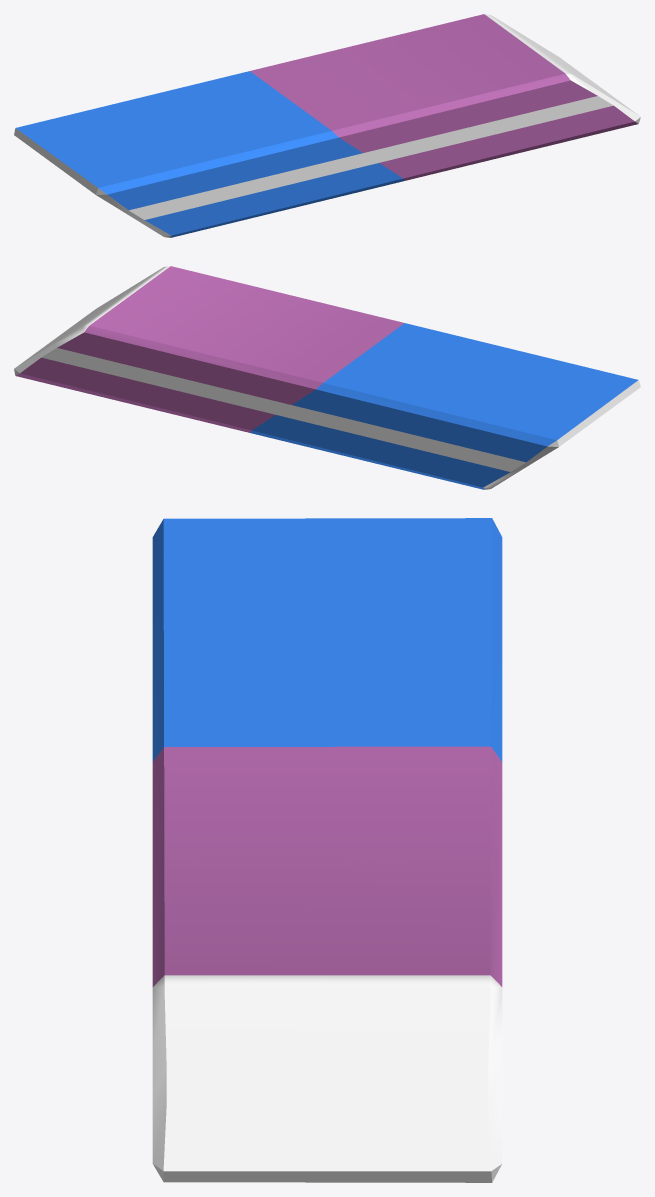
Rendered from Rubber.fbx.
The picture shows the model from 3 angles, top to bottom: view 1: azimuth 30°, elevation 25°; view 2: azimuth 150°, elevation 25°; view 3: azimuth 270°, elevation 25°; orthographic projection. The views are drawn at different scales.
Parts seen in each view (by area): view 1: pCube1; view 2: pCube1; view 3: pCube1.
Boxes of the visible parts, x1,y1,x2,y2 form: pCube1: [14, 14, 640, 237]; pCube1: [14, 266, 640, 489]; pCube1: [152, 518, 502, 1182].
Bounding box in the file's own units: 604 × 71.97 × 168.
